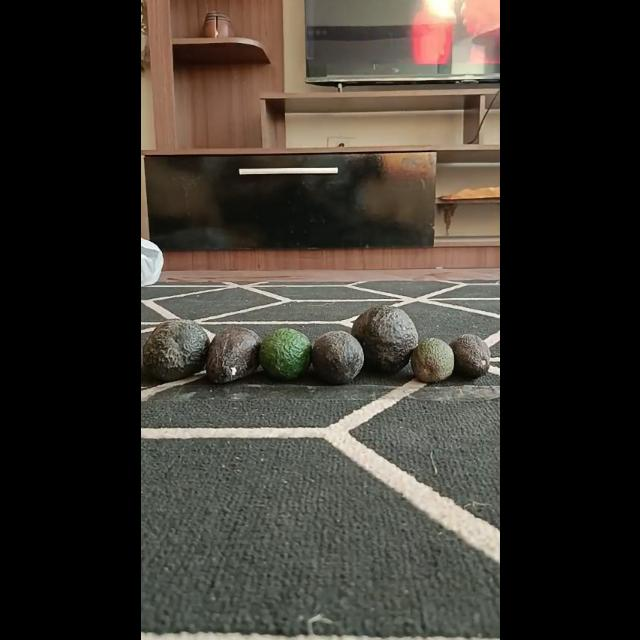Primera: (351, 303, 419, 371), (140, 318, 208, 382)
Segunda: (205, 326, 262, 384), (311, 331, 364, 384)
Tercera: (258, 326, 312, 379), (410, 337, 454, 383), (448, 334, 490, 378)
